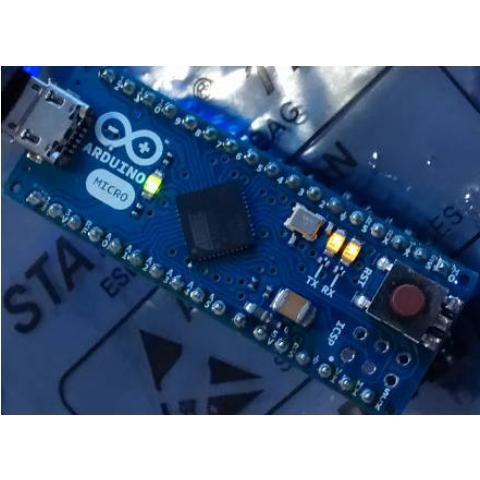Arduino-Micro: (2, 66, 480, 414)
